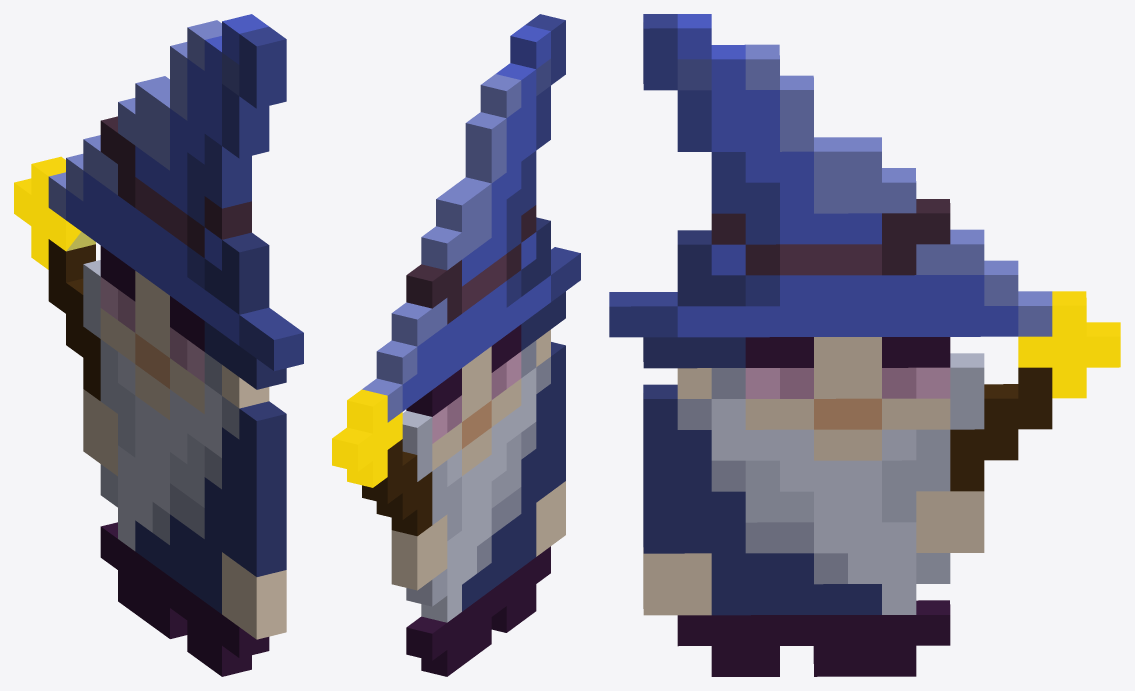
The model's file is magionicar.glb.
3 renders of one model, left to right at view 1: azimuth 30°, elevation 25°; view 2: azimuth 150°, elevation 25°; view 3: azimuth 270°, elevation 25°, orthographic. The views are drawn at different scales.
Parts seen in each view (by area): view 1: Untitled; view 2: Untitled; view 3: Untitled.
Boxes of the visible parts, x1=… form: Untitled: x1=14, y1=14, x2=303, y2=676; Untitled: x1=332, y1=14, x2=580, y2=676; Untitled: x1=609, y1=14, x2=1120, y2=676.
Bounding box in the file's own units: 0.1056 × 2.1 × 1.5.
Materials: 2 (1 with a texture image).
